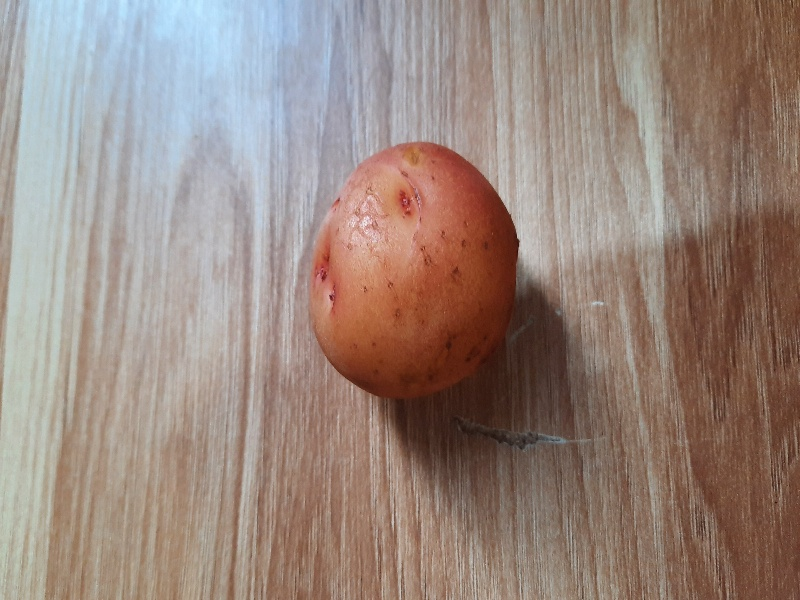vege: (308, 138, 523, 408)
